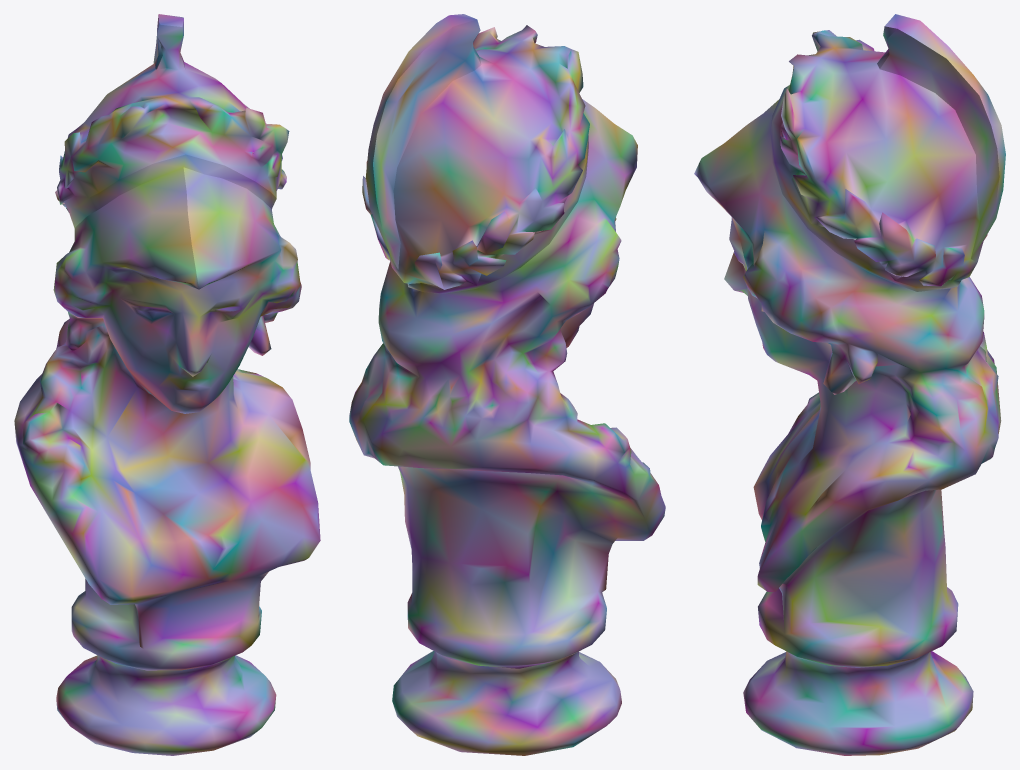
The model's file is scene_Athena-low.fbx.
3 views of the same model, side by side, from view 1: azimuth 30°, elevation 25°; view 2: azimuth 150°, elevation 25°; view 3: azimuth 270°, elevation 25° (orthographic). The views are drawn at different scales.
Visible parts, largest first — view 1: Athena-low; view 2: Athena-low; view 3: Athena-low.
Boxes of the visible parts, x1,y1,x2,y2 form: Athena-low: [14, 14, 320, 755]; Athena-low: [349, 14, 665, 755]; Athena-low: [694, 14, 1005, 755].
Size of the model in its own units: 0.607 by 1.52 by 0.6129.
